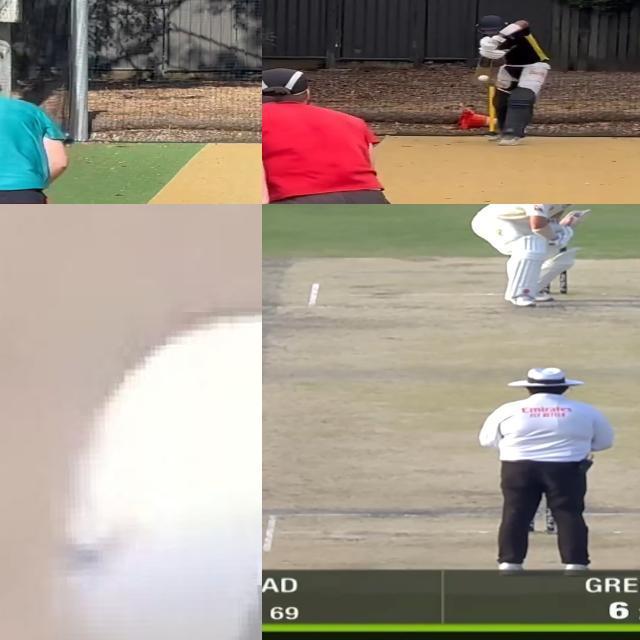Cricket ball: (52, 312, 262, 640), (477, 75, 490, 81)
